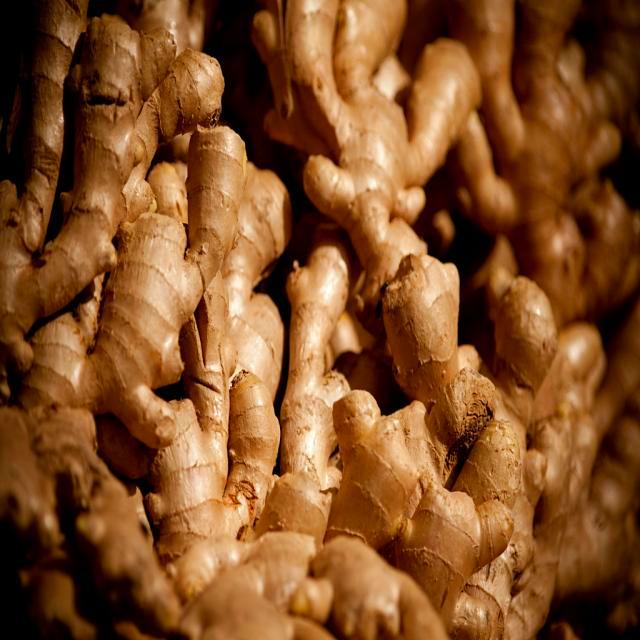ginger: (252, 0, 480, 318), (30, 16, 223, 313), (254, 231, 348, 547), (80, 212, 202, 446)
